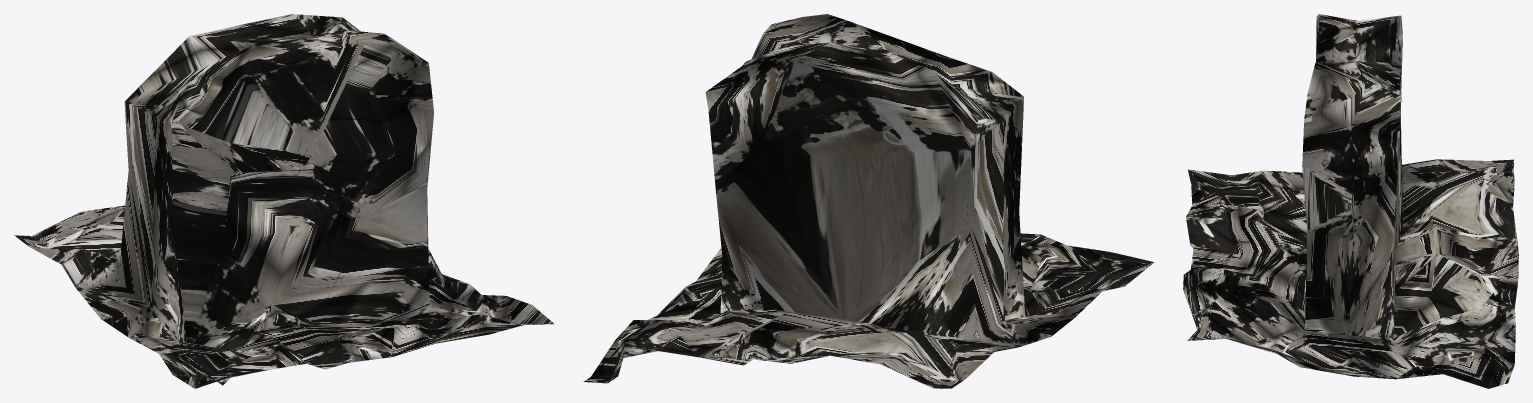
Rendered from tombstone_slab.glb.
3 views of the same model, side by side, from view 1: azimuth 30°, elevation 25°; view 2: azimuth 150°, elevation 25°; view 3: azimuth 270°, elevation 25° (orthographic). The views are drawn at different scales.
Visible parts, largest first — view 1: tombstone_slab; view 2: tombstone_slab; view 3: tombstone_slab.
Part boxes in pixels (<box>): tombstone_slab: <box>14,14,554,388</box>; tombstone_slab: <box>583,14,1154,388</box>; tombstone_slab: <box>1183,14,1518,388</box>.
Bounding box in the file's own units: 0.7766 × 0.6209 × 0.7064.
1 material, 1 textured.
